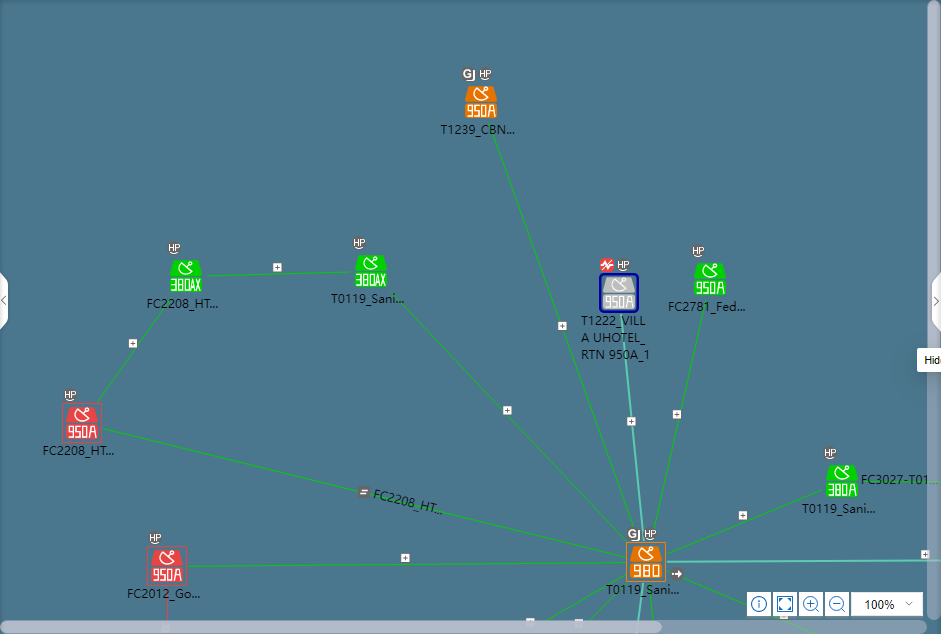Link_Blue: (618, 315, 645, 541), (667, 558, 941, 563)
Link_Green: (104, 427, 626, 561), (383, 286, 629, 542), (484, 122, 637, 529), (650, 304, 709, 531), (667, 488, 824, 557), (95, 296, 175, 402), (543, 572, 625, 620), (189, 561, 625, 569), (667, 570, 746, 608), (207, 269, 354, 280), (589, 582, 627, 620), (864, 479, 928, 485), (646, 587, 655, 621)
RTN_Gray: (600, 276, 637, 312)
RTN_Green: (355, 255, 386, 287), (694, 263, 725, 295), (826, 466, 857, 497), (170, 261, 201, 292)
RTN_Orange: (629, 547, 663, 580), (465, 86, 496, 118)
RTN_Red: (148, 549, 185, 585), (64, 407, 98, 440)
